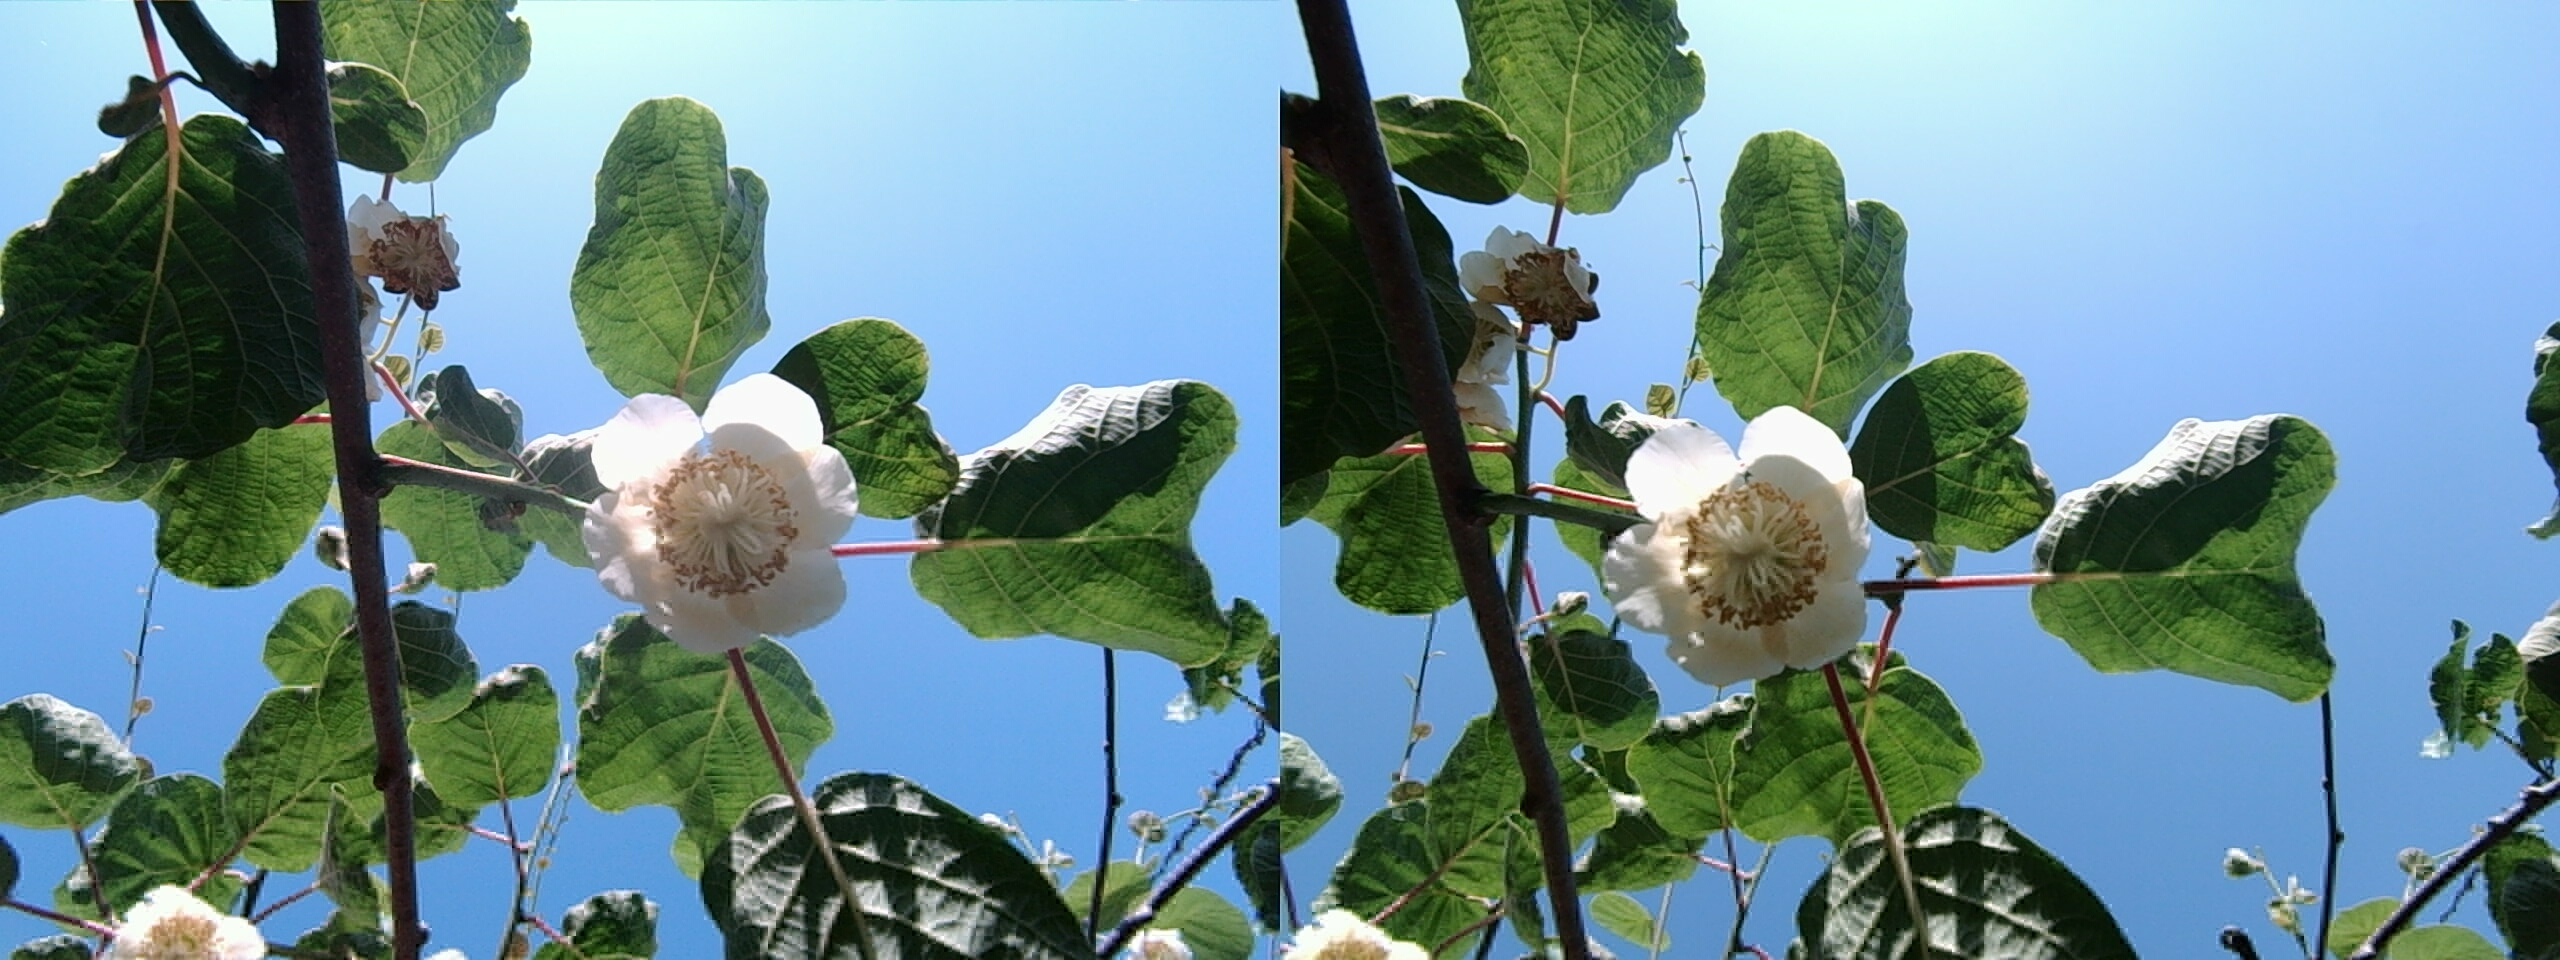flower: (584, 389, 859, 651), (1613, 416, 1869, 682), (1460, 229, 1597, 341), (348, 201, 462, 310)
